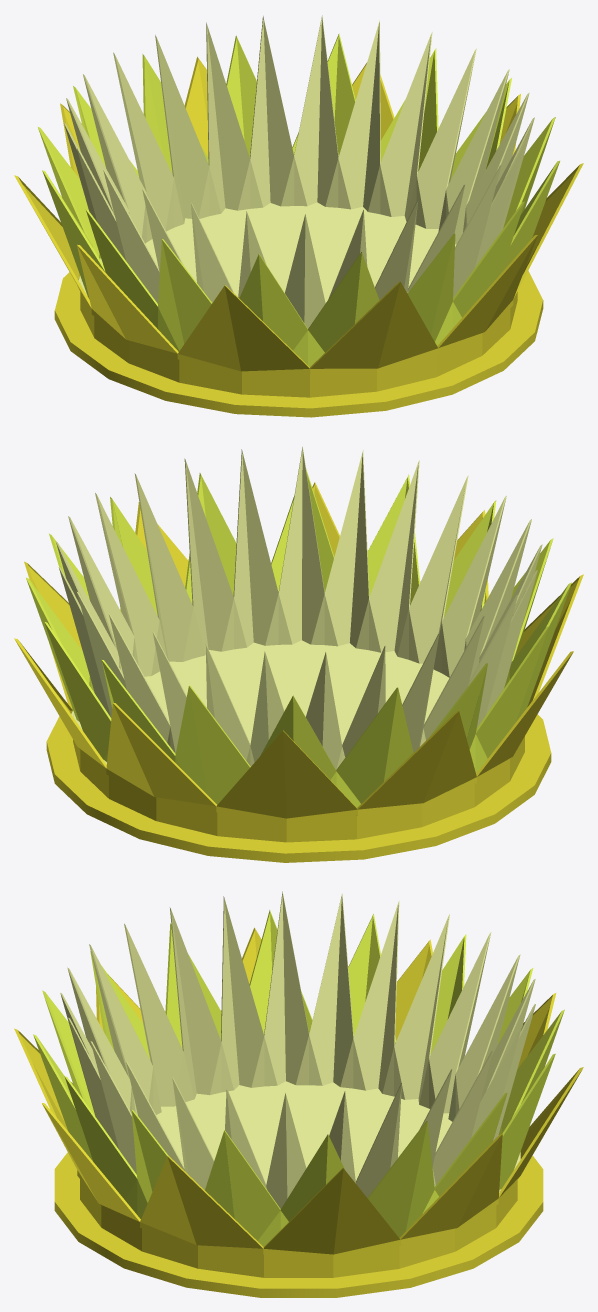
The model's file is portal_000017.obj.
The picture shows the model from 3 angles, top to bottom: view 1: azimuth 30°, elevation 25°; view 2: azimuth 150°, elevation 25°; view 3: azimuth 270°, elevation 25°; orthographic projection. The views are drawn at different scales.
Parts seen in each view (by area): view 1: Cylinder.001, pCylinder1, Cylinder; view 2: Cylinder.001, pCylinder1, Cylinder; view 3: Cylinder.001, pCylinder1, Cylinder.
Part boxes in pixels (box(x1,y1,x2,y2)): Cylinder.001: box(64, 15, 534, 328); pCylinder1: box(14, 56, 583, 417); Cylinder: box(38, 33, 559, 366); Cylinder.001: box(56, 447, 542, 769); pCylinder1: box(14, 482, 583, 862); Cylinder: box(26, 468, 571, 807); Cylinder.001: box(60, 891, 535, 1208); pCylinder1: box(14, 927, 583, 1297); Cylinder: box(33, 910, 564, 1246).
Size of the model in its own units: 7.36 by 2.9 by 7.35.
3 materials, 3 textured.
